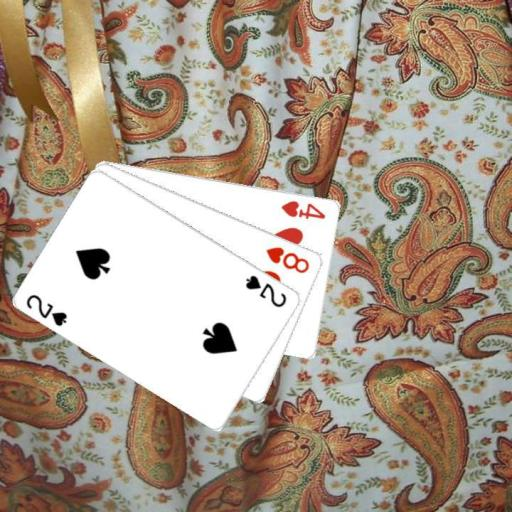2S: (243, 272, 289, 309), (24, 291, 70, 328)
4H: (279, 197, 327, 220)
8H: (263, 243, 312, 275)
